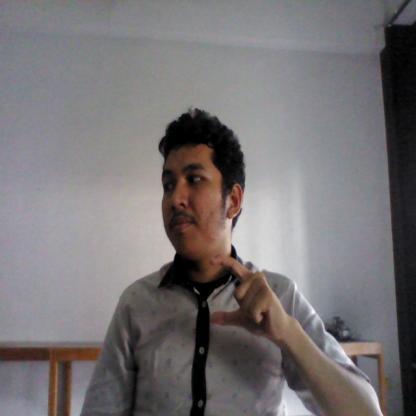C: (206, 252, 292, 348)
